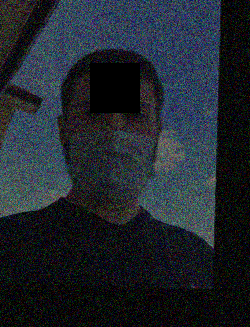with_mask: (68, 90, 156, 208)
